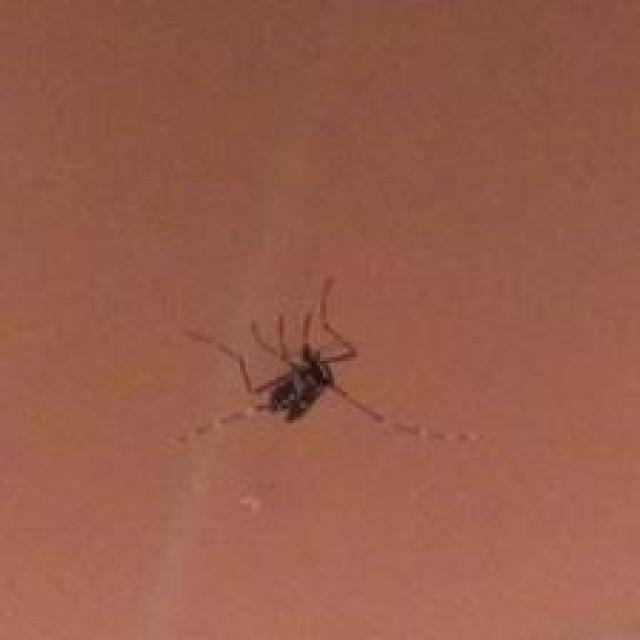Aedes albopictus: (180, 276, 477, 447)
